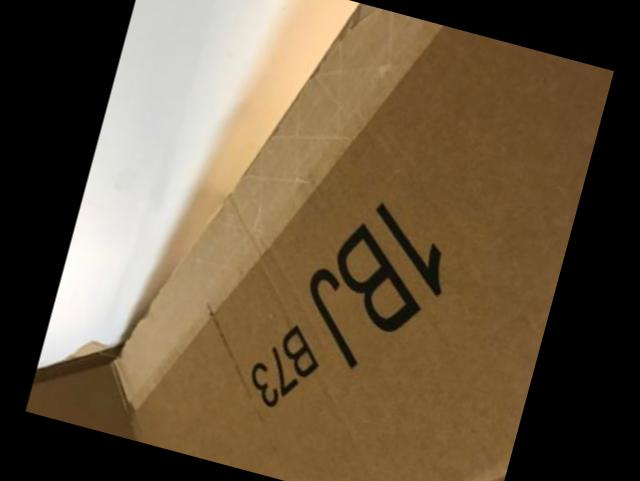cardboard paper: (25, 2, 612, 481), (116, 2, 612, 481)
